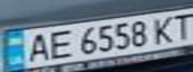5: (93, 21, 118, 54), (112, 20, 136, 51)
6: (75, 24, 100, 56)
8: (127, 17, 154, 47)
A: (18, 30, 54, 64)
E: (42, 27, 75, 61)
K: (148, 14, 181, 44)
T: (166, 10, 193, 39)
